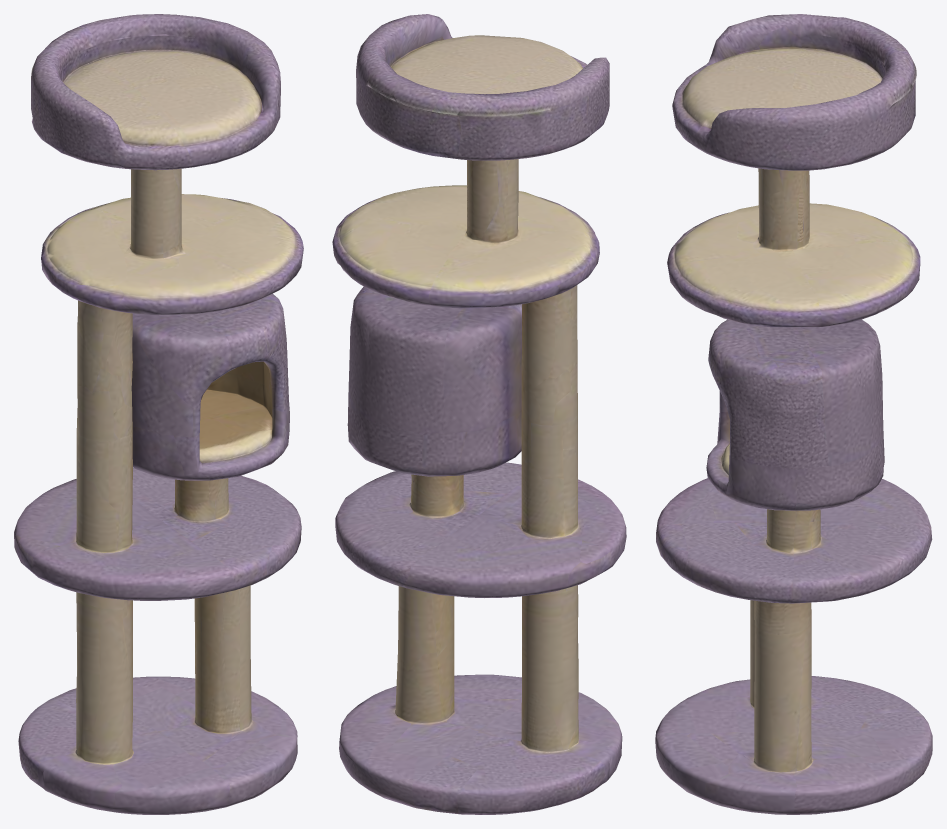
Rendered from cattower.glb.
3 renders of one model, left to right at view 1: azimuth 30°, elevation 25°; view 2: azimuth 150°, elevation 25°; view 3: azimuth 270°, elevation 25°, orthographic.
Bounding box in the file's own units: 0.765 × 2 × 0.7191.
Materials: 1 (1 with a texture image).
